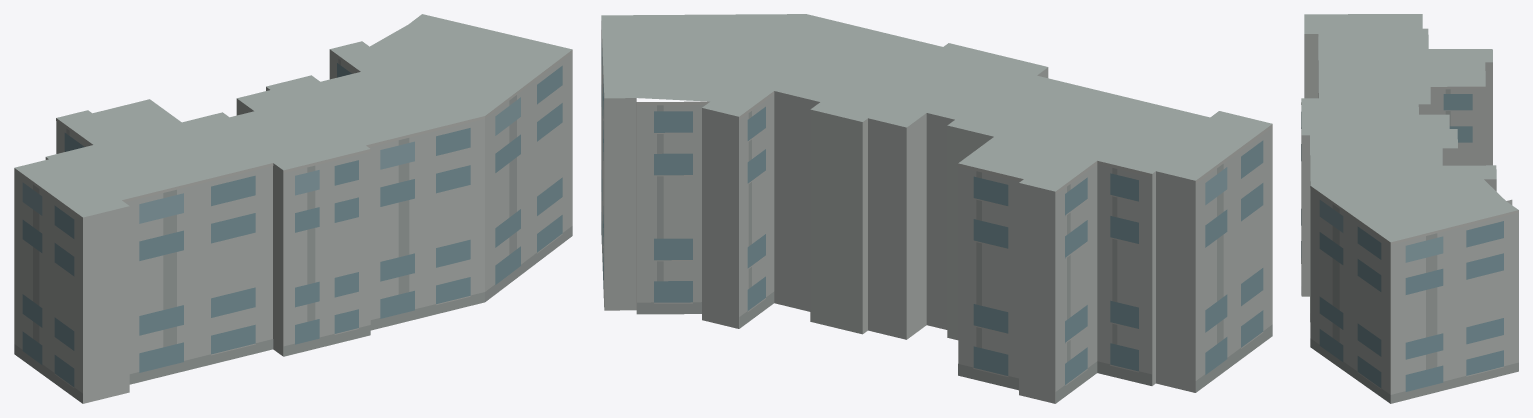
The model's file is residential-0b269944-3d7a-4218-832b-2670a6758a00.glb.
The picture shows the model from 3 angles, left to right: view 1: azimuth 30°, elevation 25°; view 2: azimuth 150°, elevation 25°; view 3: azimuth 270°, elevation 25°; orthographic projection. The views are drawn at different scales.
Parts seen in each view (by area): view 1: residential-0b269944-3d7a-4218-832b-2670a6758a00.tmp; view 2: residential-0b269944-3d7a-4218-832b-2670a6758a00.tmp; view 3: residential-0b269944-3d7a-4218-832b-2670a6758a00.tmp.
Part boxes in pixels (x1,y1,x2,y2): residential-0b269944-3d7a-4218-832b-2670a6758a00.tmp: (14, 14, 572, 403); residential-0b269944-3d7a-4218-832b-2670a6758a00.tmp: (601, 14, 1272, 403); residential-0b269944-3d7a-4218-832b-2670a6758a00.tmp: (1301, 14, 1518, 403).
Bounding box in the file's own units: 46.26 × 15.25 × 18.63.
